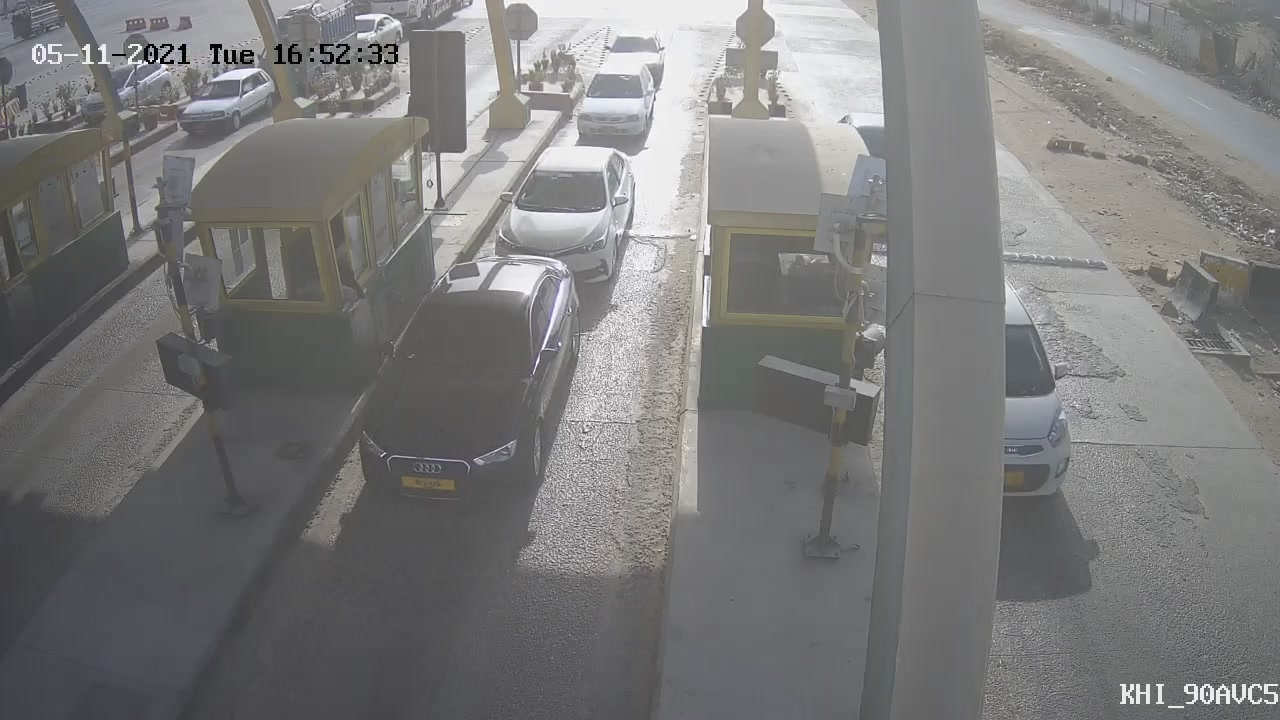F1: (327, 234, 607, 522), (477, 126, 653, 305), (546, 52, 674, 156)
